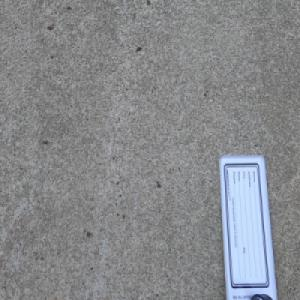LuggageTag: (218, 150, 281, 300)
